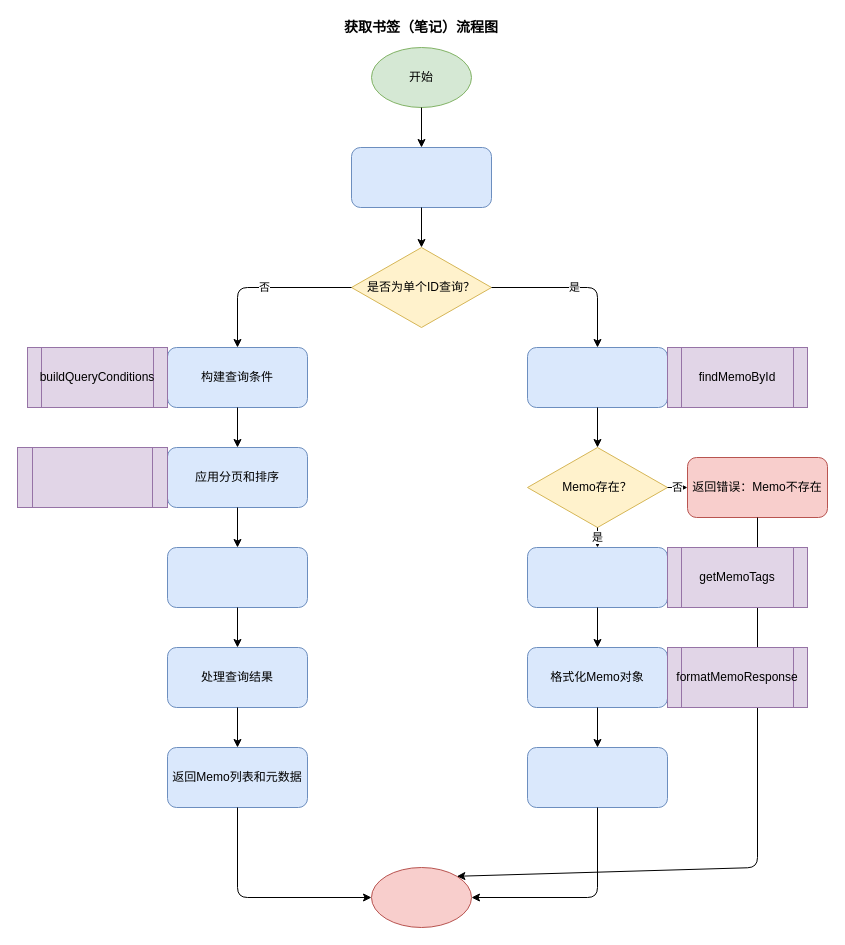
This 845x945 diagram has some shape labels left out. The box of each missing label's shape, as (x1, y1, x2, y2) in pixels:
applyPaginationAndSort: (16, 446, 168, 508)
执行数据库查询: (166, 546, 308, 608)
接收查询参数: (350, 146, 492, 208)
根据ID查询Memo: (526, 346, 668, 408)
结束: (370, 866, 472, 928)
获取关联的标签: (526, 546, 668, 608)
返回单个Memo对象: (526, 746, 668, 808)
